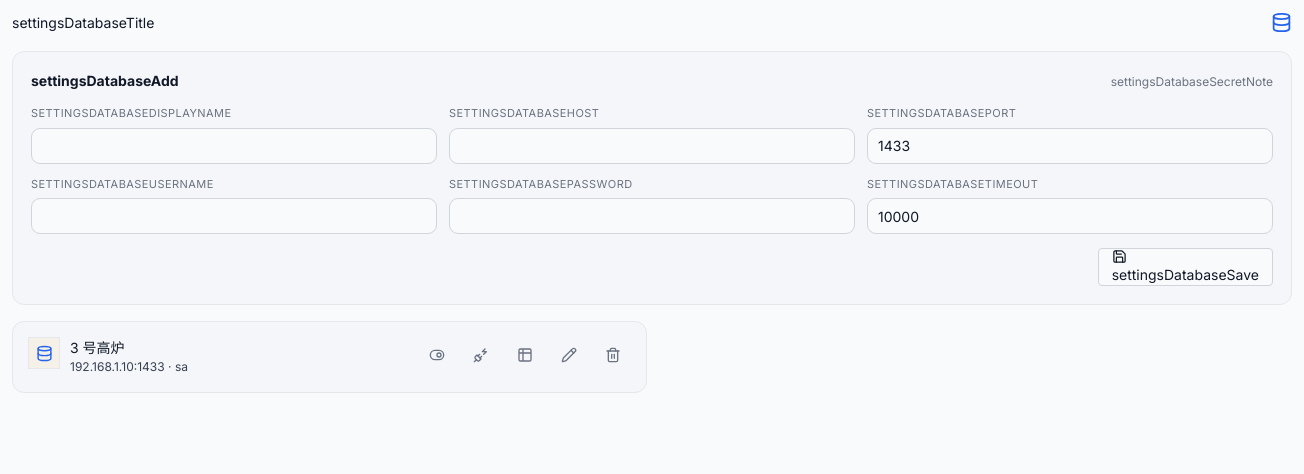
Test: DatabaseConnectionsPanel › shows the server version after a successful test
The width and height of the screenshot is (1304, 474).
Click the button named "settingsDatabaseTest". click: (481, 355)
box: [463, 337, 499, 373]
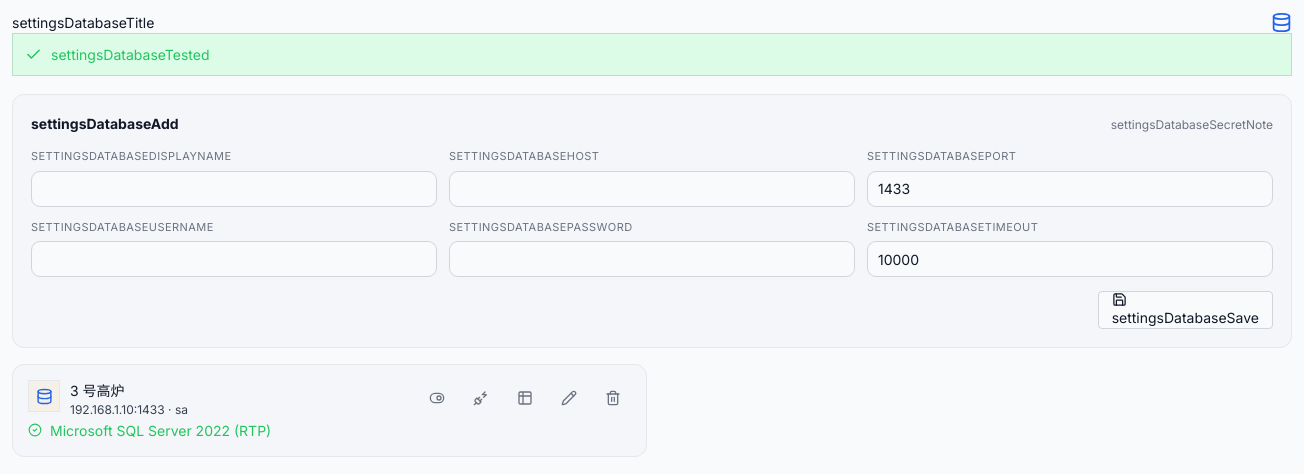
Check: the text "Microsoft SQL Server 2022 (RTP)" is shown, box [28, 420, 271, 441]
